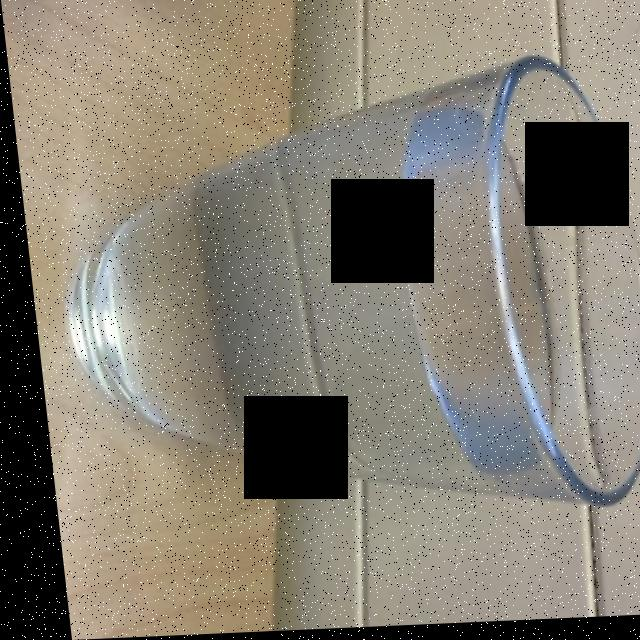water: (167, 85, 571, 491)
